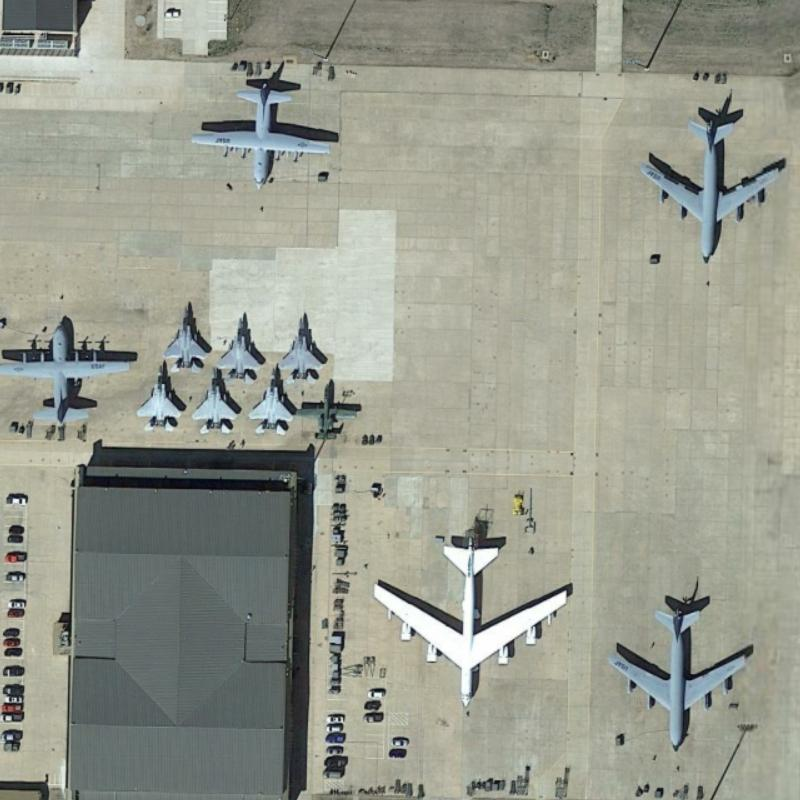A13: (242, 355, 301, 440), (187, 359, 244, 441), (272, 308, 331, 385), (131, 360, 188, 438), (217, 304, 267, 385), (156, 296, 205, 371)
A14: (598, 593, 759, 755), (634, 104, 782, 266)
A2: (186, 70, 338, 196), (2, 308, 135, 440)
A8: (367, 526, 581, 712)
